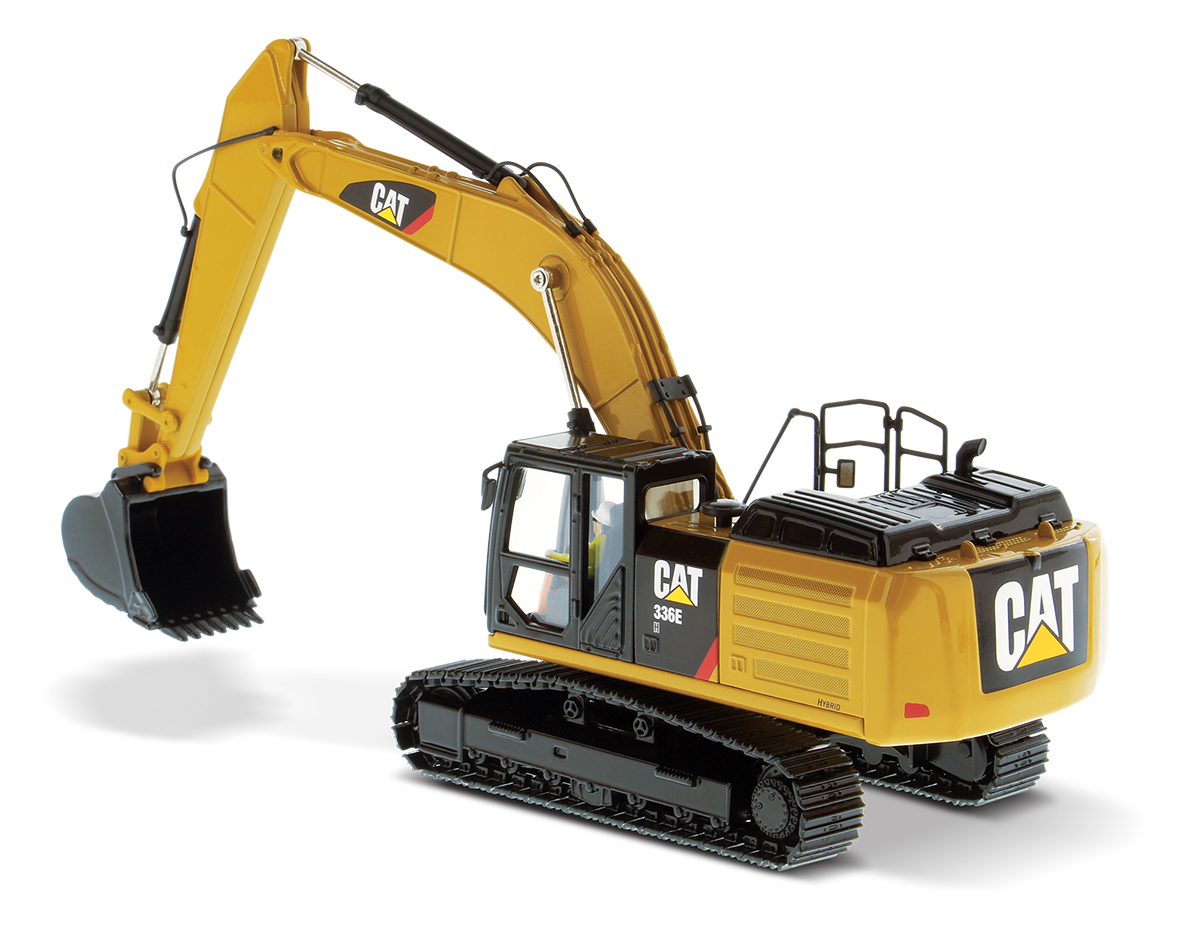backhoe: (63, 34, 1101, 875)
